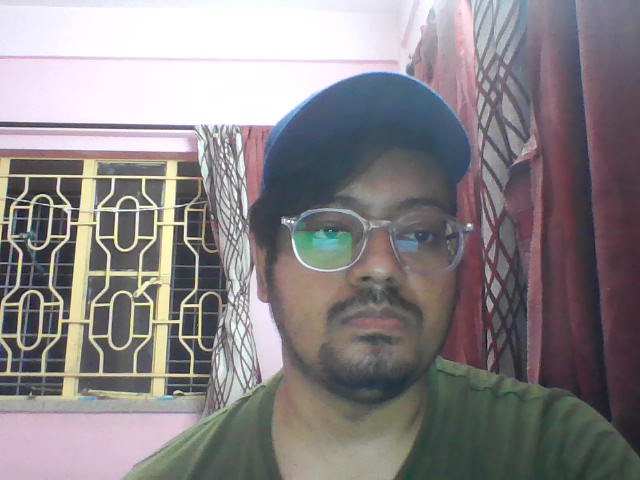Helmet: (230, 63, 486, 206)
